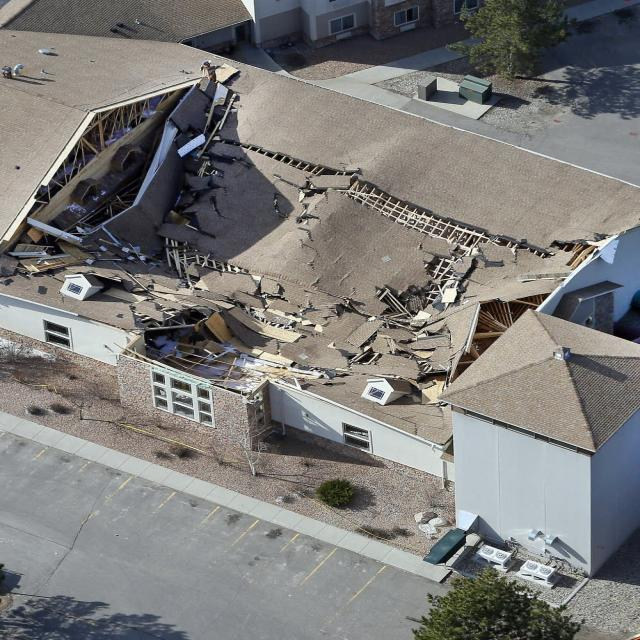collapsed_building: (0, 59, 639, 458)
